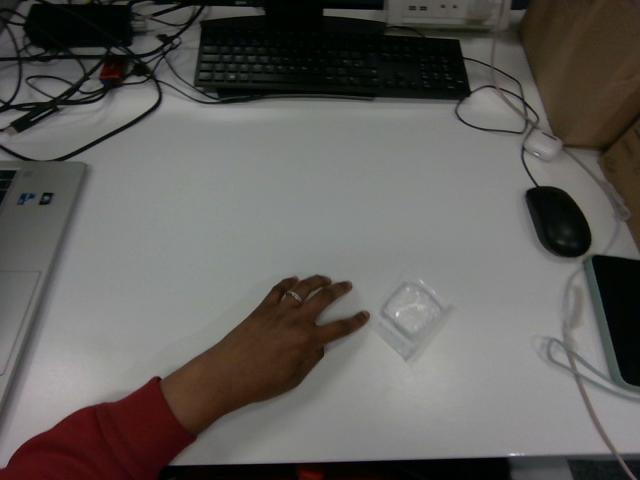gauze: (373, 279, 450, 360)
